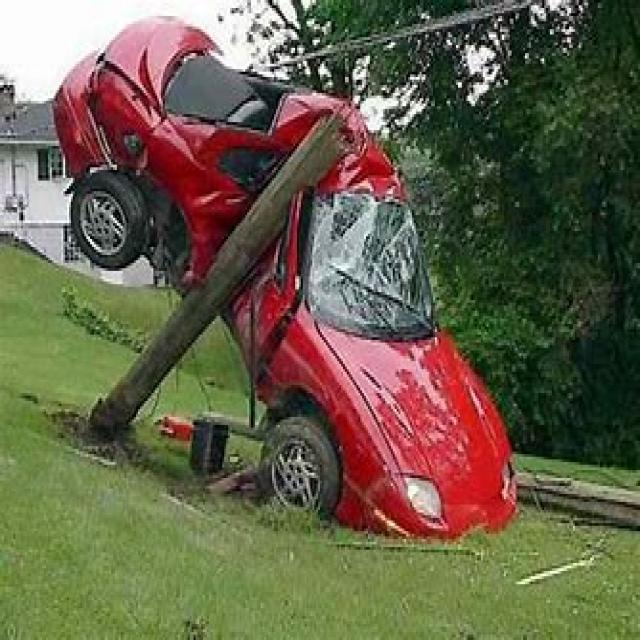Accident: (165, 35, 566, 523)
